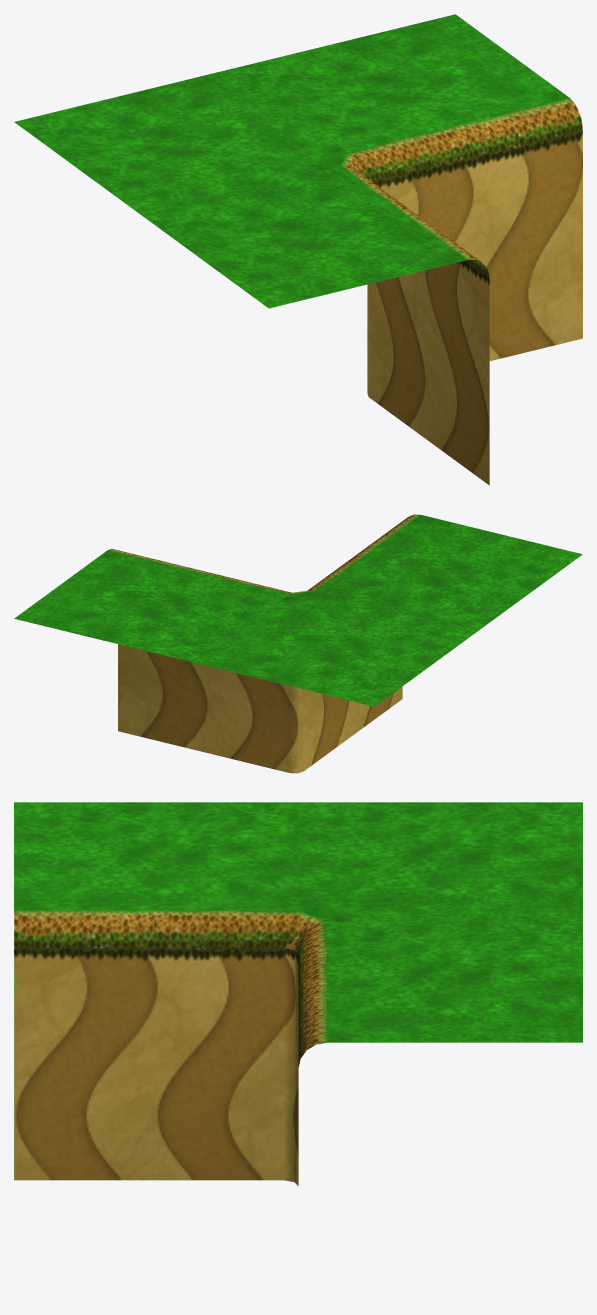
The model's file is Corner_Top_Inwards.fbx.
The picture shows the model from 3 angles, top to bottom: view 1: azimuth 30°, elevation 25°; view 2: azimuth 150°, elevation 25°; view 3: azimuth 270°, elevation 25°; orthographic projection. The views are drawn at different scales.
Parts seen in each view (by area): view 1: Txt_Corner_Top_Inwards; view 2: Txt_Corner_Top_Inwards; view 3: Txt_Corner_Top_Inwards.
Part boxes in pixels (x1,y1,x2,y2): Txt_Corner_Top_Inwards: [14, 14, 582, 485]; Txt_Corner_Top_Inwards: [14, 514, 582, 773]; Txt_Corner_Top_Inwards: [14, 802, 582, 1185].
Bounding box in the file's own units: 400 × 200 × 400.
